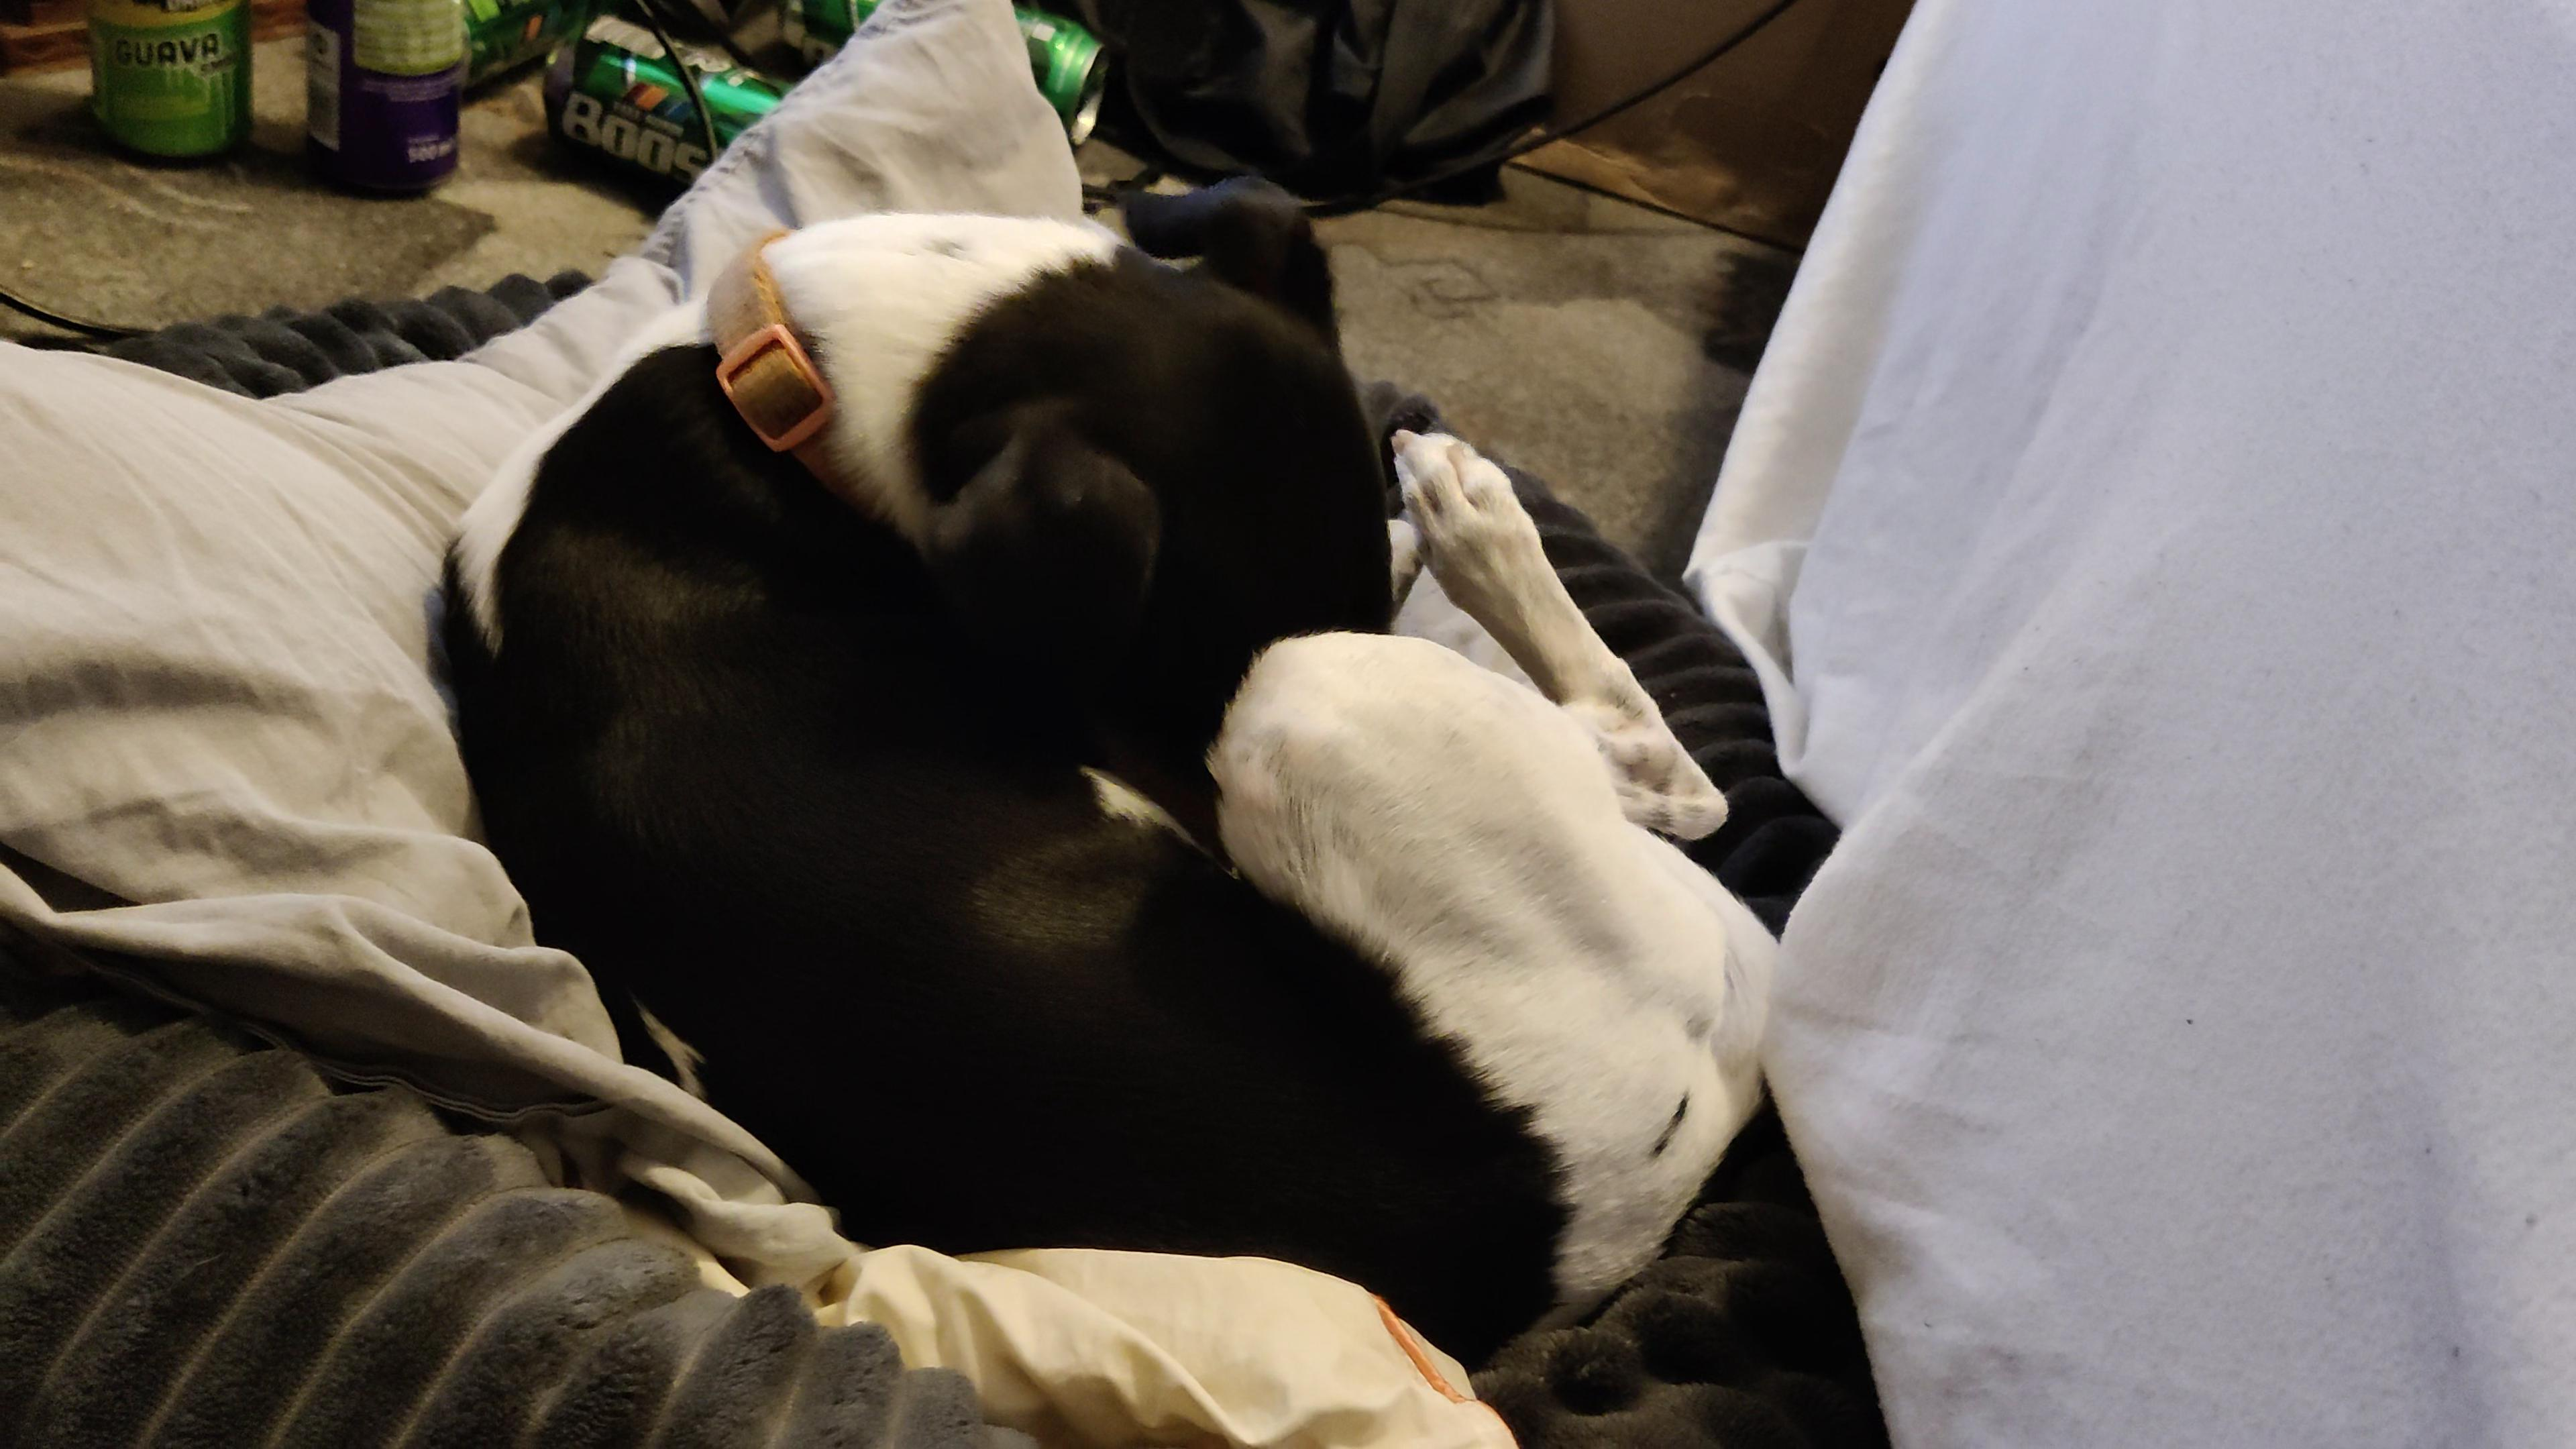Dog: (428, 154, 1789, 1376)
